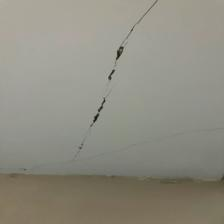Medium: (63, 2, 165, 169)
